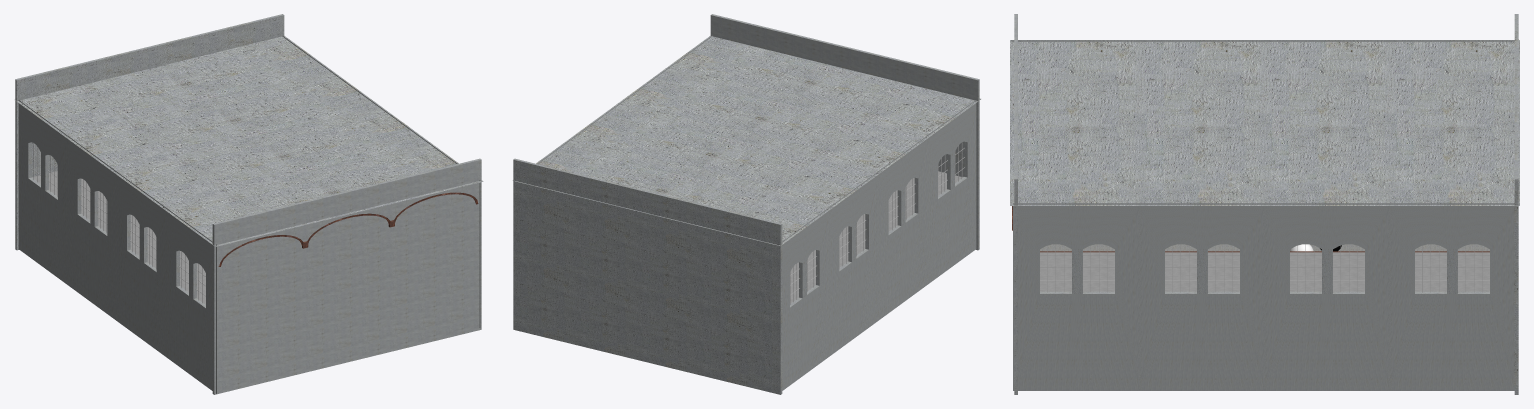
Rendered from Warehouse_Full.fbx.
3 views of the same model, side by side, from view 1: azimuth 30°, elevation 25°; view 2: azimuth 150°, elevation 25°; view 3: azimuth 270°, elevation 25° (orthographic). The views are drawn at different scales.
Parts seen in each view (by area): view 1: pCube34, pPlane2, pPlane3, pPlane1, pPlane4, pCube33, Wall_left1, Wall_left2, Wall_left4, Wall_left6, Floor_up_right1, Floor_up_right (+1 smaller); view 2: pCube33, pPlane3, pPlane2, pPlane4, pPlane1, pCube34, Wall_left2, Wall_left4, Wall_left6, Wall_left1, Floor_up_right2, Floor_up_right1 (+1 smaller); view 3: pPlane1, pPlane2, pPlane3, pPlane4, Wall_left3, Wall_left5, Wall_left, Wall_left7, Floor_up_left1, Floor_up_left2, Floor_up_left3, Floor_up_left (+2 smaller).
Boxes of the visible parts, x1,y1,x2,y2 form: pCube34: (212, 158, 481, 394); pPlane2: (64, 71, 383, 174); pPlane3: (114, 109, 431, 209); pPlane1: (14, 36, 335, 138); pPlane4: (163, 143, 483, 246); pCube33: (15, 14, 284, 250); Wall_left1: (18, 100, 68, 285); Wall_left2: (66, 137, 118, 321); Wall_left4: (116, 173, 167, 357); Wall_left6: (165, 208, 216, 393); Floor_up_right1: (81, 207, 156, 248); Floor_up_right: (32, 171, 107, 212); pCube33: (513, 158, 782, 394); pPlane3: (611, 69, 927, 170); pPlane2: (565, 107, 882, 209); pPlane4: (664, 36, 980, 137); pPlane1: (512, 142, 833, 245); pCube34: (710, 14, 979, 250); Wall_left2: (828, 170, 879, 356); Wall_left4: (877, 135, 929, 319); Wall_left6: (927, 100, 976, 283); Wall_left1: (782, 206, 830, 390); Floor_up_right2: (839, 206, 914, 248); Floor_up_right1: (790, 242, 864, 284); pPlane1: (1385, 40, 1519, 205); pPlane2: (1260, 40, 1394, 205); pPlane3: (1135, 40, 1269, 205); pPlane4: (1010, 40, 1144, 205); Wall_left3: (1263, 203, 1391, 390); Wall_left5: (1138, 203, 1266, 390); Wall_left: (1388, 203, 1514, 390); Wall_left7: (1013, 203, 1141, 390); Floor_up_left1: (1290, 252, 1364, 291); Floor_up_left2: (1165, 252, 1239, 291); Floor_up_left3: (1040, 252, 1114, 291); Floor_up_left: (1415, 252, 1489, 291).
Size of what is drawn, in the model's own units: 30.91 by 18.73 by 40.15.
